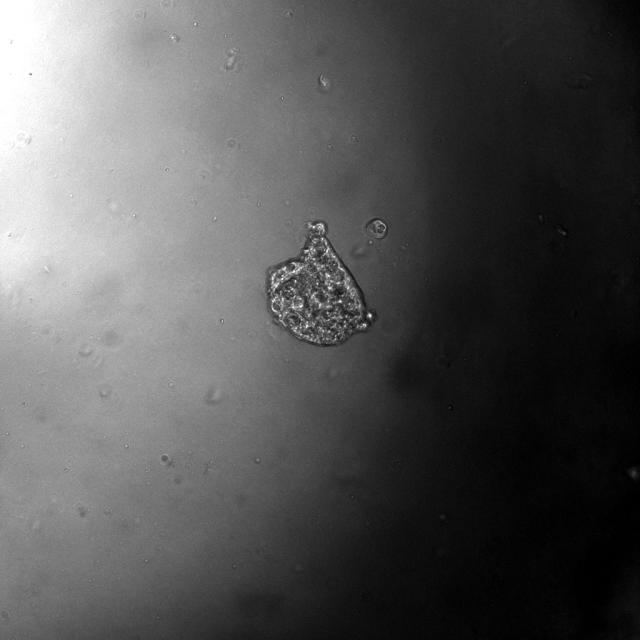organoid: (266, 220, 374, 346), (366, 219, 388, 239)
